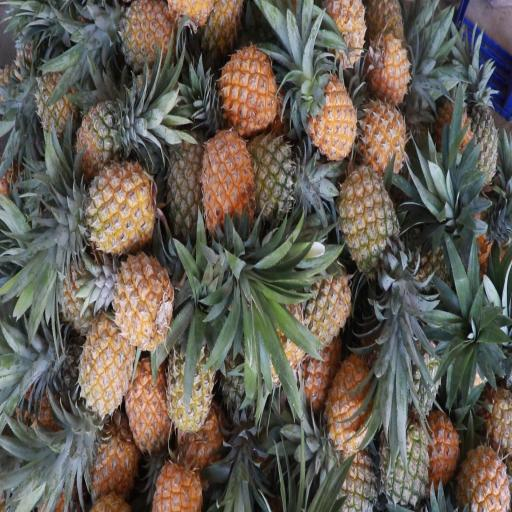------------------------------: (335, 155, 401, 284), (162, 322, 214, 446), (64, 90, 138, 175), (243, 120, 303, 216), (114, 0, 180, 78)
Pineapple - v8 v1: (64, 156, 158, 258), (190, 108, 253, 238), (106, 241, 175, 354), (318, 341, 384, 458), (76, 302, 135, 423), (290, 242, 356, 348), (294, 65, 359, 163), (218, 36, 277, 138), (352, 86, 410, 183), (121, 350, 173, 452), (456, 428, 512, 512), (362, 26, 415, 108), (315, 0, 372, 73)
